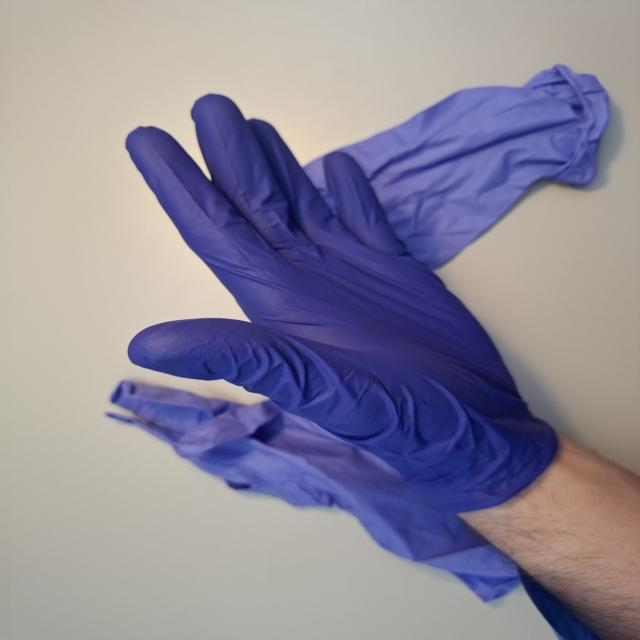glove_on: (119, 88, 568, 524)
